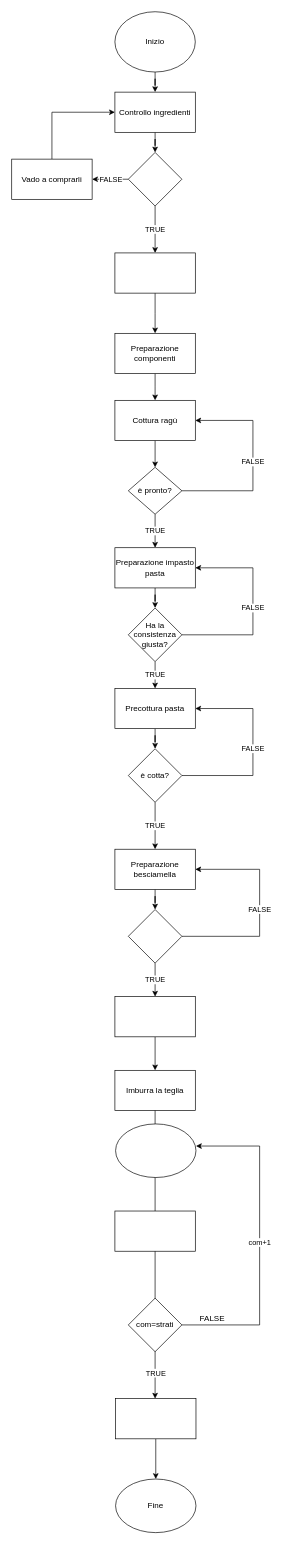
This 283x1544 diagram has some shape labels left out. Here are the shapes that lost their labels. From the top down, the centre of each, then its label:
At point (155, 179): "Ci sono tutti?".
At point (154, 272): "Inizio preparazione lasagna alla bolognese".
At point (155, 936): "è densa senza grumi?".
At point (154, 1016): "Prendo la teglia".
At point (155, 1150): "Strati: Besciamella, ragù, pasta".
At point (154, 1230): "com=0, strati=4".
At point (155, 1418): "Cottura".
